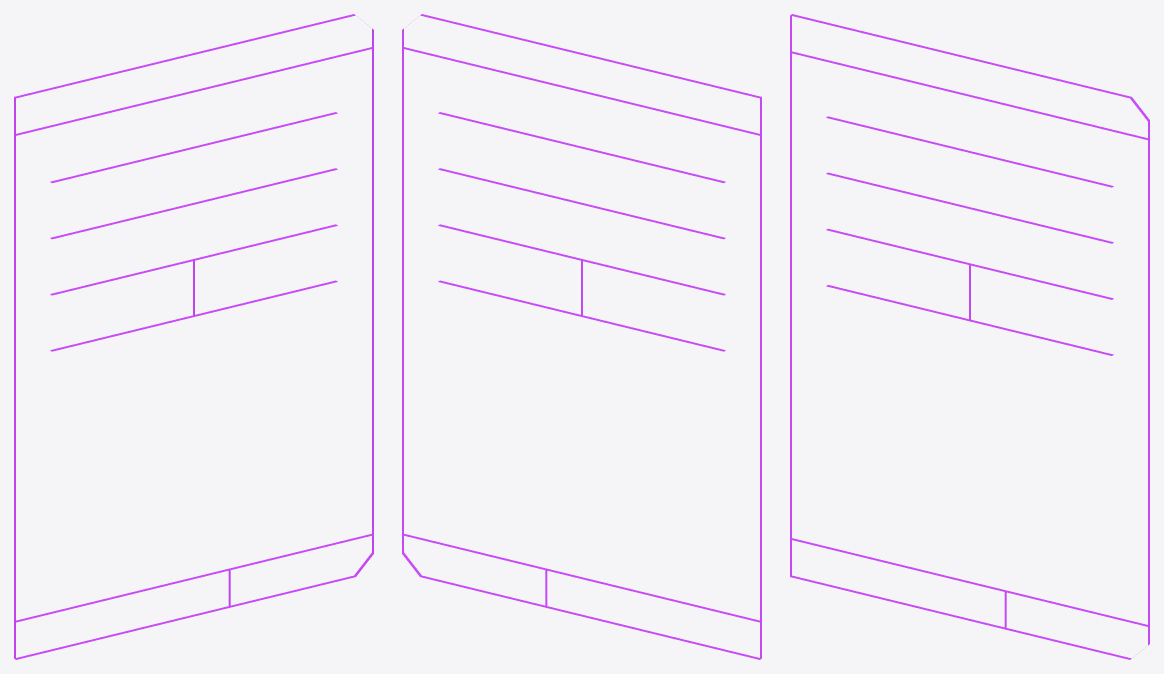
The model's file is frame.glb.
3 views of the same model, side by side, from view 1: azimuth 30°, elevation 25°; view 2: azimuth 150°, elevation 25°; view 3: azimuth 330°, elevation 25° (orthographic).
Visible parts, largest first — view 1: Plane; view 2: Plane; view 3: Plane.
Boxes of the visible parts, x1,y1,x2,y2 form: Plane: (14,14,373,659); Plane: (402,14,761,659); Plane: (790,14,1149,659).
Size of the model in its own units: 2 by 3 by 0.02.
